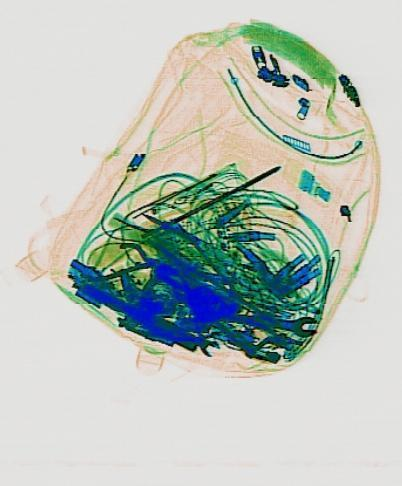Pliers: (99, 239, 161, 282)
Wrench: (129, 304, 219, 360), (236, 307, 317, 336)
